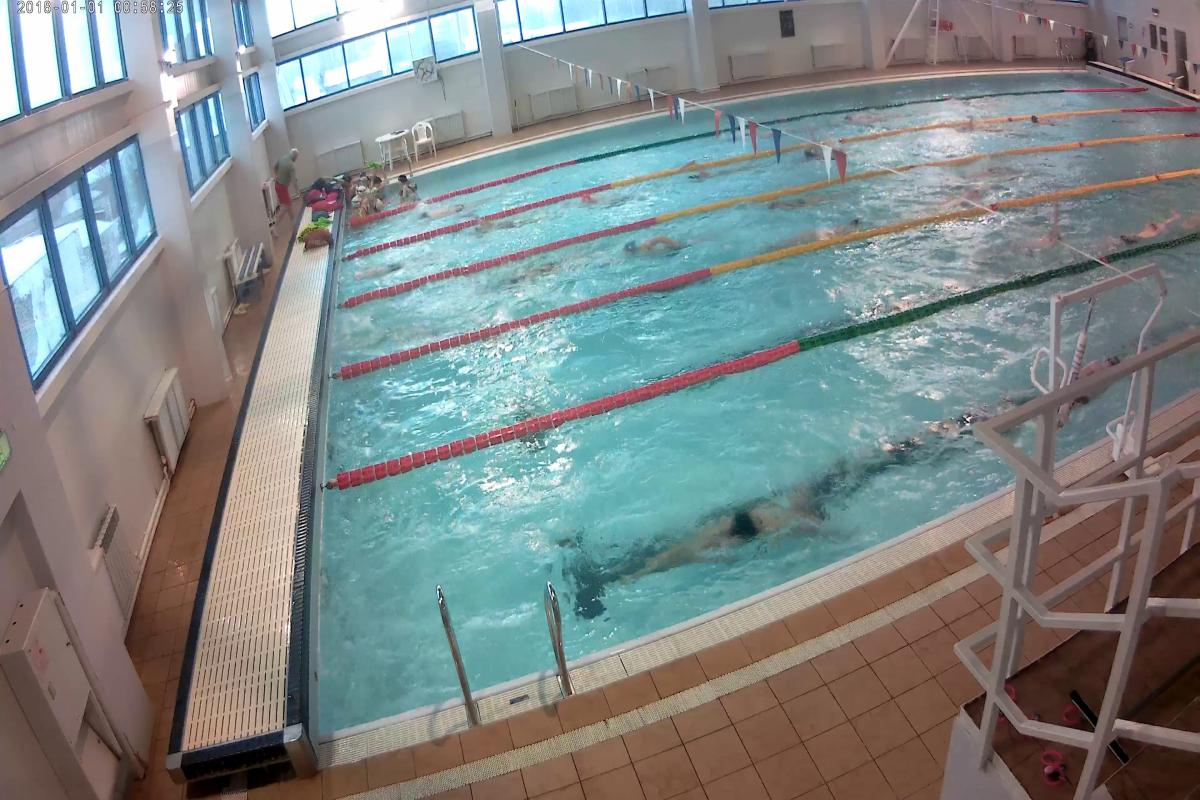swimmer: (754, 186, 838, 217), (617, 240, 702, 256), (510, 262, 560, 286)
